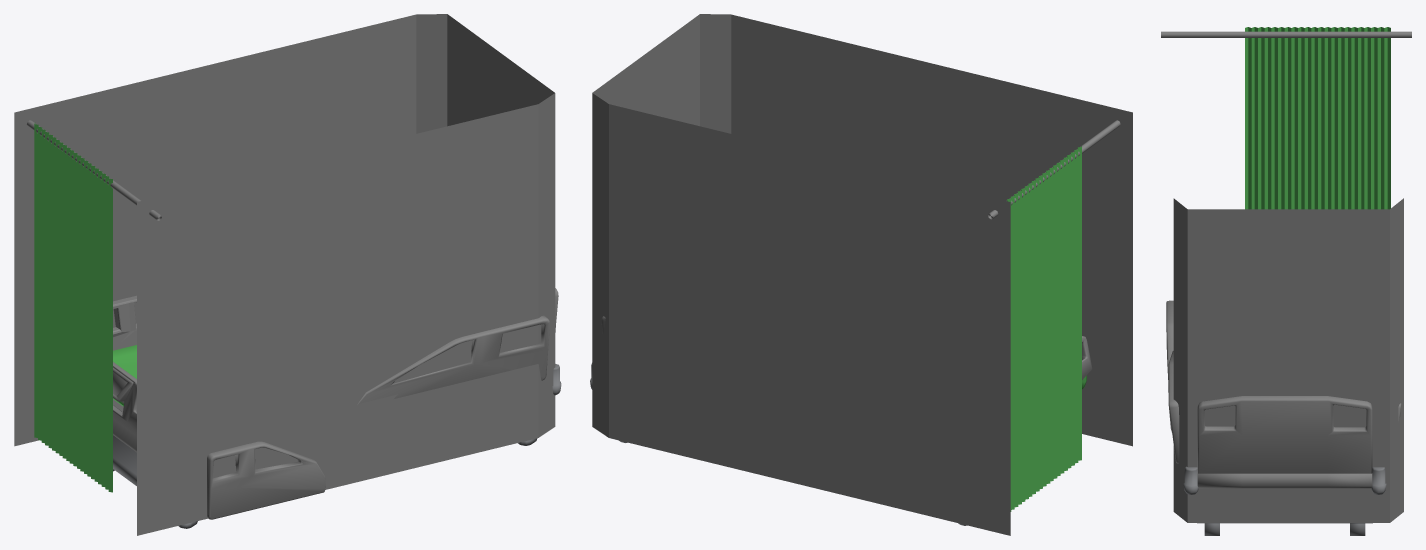
The model's file is medicalbed.glb.
The picture shows the model from 3 angles, left to right: view 1: azimuth 30°, elevation 25°; view 2: azimuth 150°, elevation 25°; view 3: azimuth 270°, elevation 25°; orthographic projection. The views are drawn at different scales.
Parts seen in each view (by area): view 1: Cube.028, Plane.005, Cube.009_12, Cube.001_2, Cube.003_4, Cube.004_5, Cube.006_8, Cylinder.013; view 2: Cube.028, Plane.005, Cylinder.013; view 3: Cube.028, Plane.005, Cube.002_3, Cube.003_4, Cylinder.013, Cube.001_2, Cylinder_6, Cube.009_12, Cube.007_9.
Part boxes in pixels (bbox=[...]): Cube.028: bbox=[14, 14, 555, 535]; Plane.005: bbox=[34, 122, 112, 492]; Cube.009_12: bbox=[207, 441, 325, 519]; Cube.001_2: bbox=[357, 315, 549, 404]; Cube.003_4: bbox=[113, 362, 136, 452]; Cube.004_5: bbox=[113, 295, 136, 350]; Cube.006_8: bbox=[113, 435, 136, 485]; Cylinder.013: bbox=[27, 120, 161, 220]; Cube.028: bbox=[592, 14, 1132, 535]; Plane.005: bbox=[1007, 146, 1081, 511]; Cylinder.013: bbox=[988, 120, 1120, 219]; Cube.028: bbox=[1173, 198, 1403, 522]; Plane.005: bbox=[1245, 27, 1390, 209]; Cube.002_3: bbox=[1197, 396, 1372, 473]; Cube.003_4: bbox=[1197, 473, 1372, 488]; Cylinder.013: bbox=[1161, 31, 1411, 37]; Cube.001_2: bbox=[1168, 351, 1401, 463]; Cylinder_6: bbox=[1183, 466, 1386, 494]; Cube.009_12: bbox=[1166, 300, 1173, 392]; Cube.007_9: bbox=[1204, 523, 1365, 535].
Bounding box in the file's own units: 12.19 × 9.49 × 6.47.
Materials: 4 (1 with a texture image).
